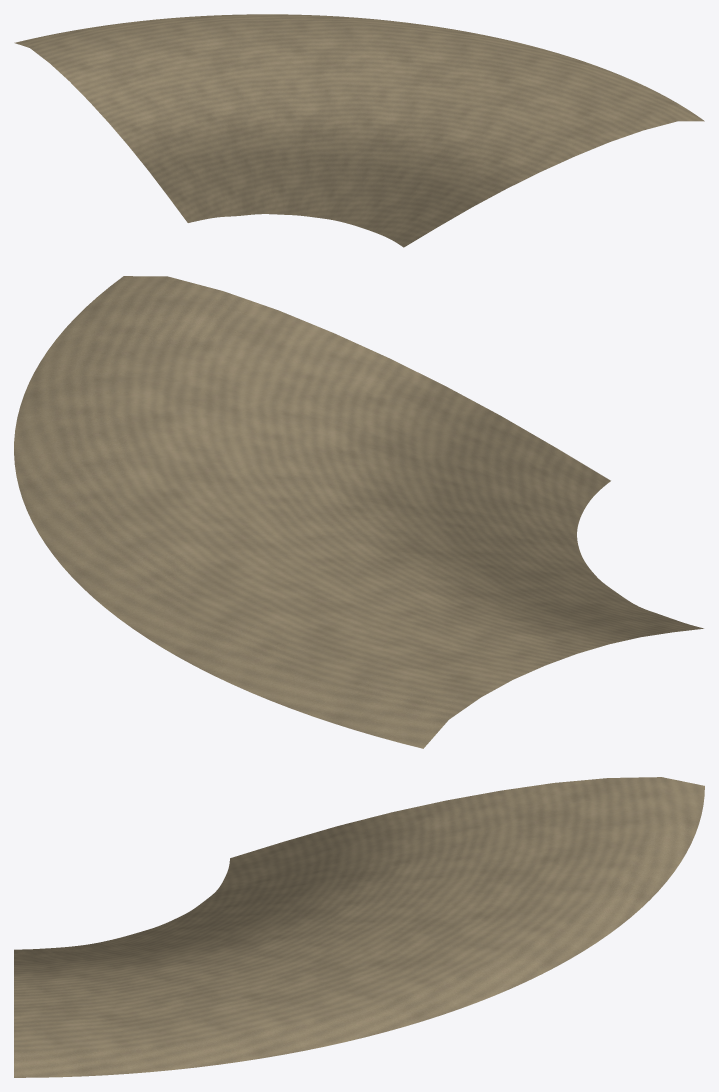
File: beach_sand_inner_v5_dead.glb
3 views of the same model, one above another, from view 1: azimuth 30°, elevation 25°; view 2: azimuth 150°, elevation 25°; view 3: azimuth 270°, elevation 25° (orthographic). The views are drawn at different scales.
Visible parts, largest first — view 1: beach_sand_inner; view 2: beach_sand_inner; view 3: beach_sand_inner.
Boxes of the visible parts, box(x1,y1,x2,y2) form: beach_sand_inner: box(14, 14, 704, 247); beach_sand_inner: box(14, 276, 703, 748); beach_sand_inner: box(14, 777, 704, 1077).
Size of the model in its own units: 6.4 by 0.8495 by 6.4.
Materials: 1 (1 with a texture image).
